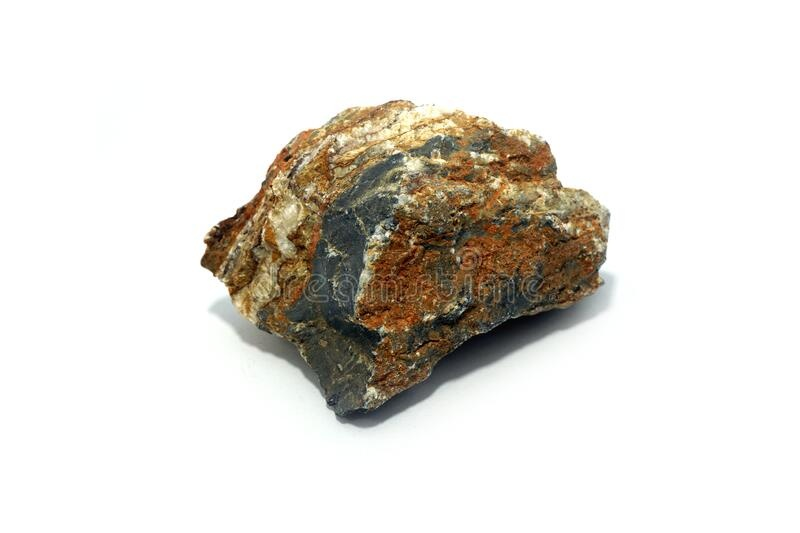obstacle: (202, 101, 608, 415)
